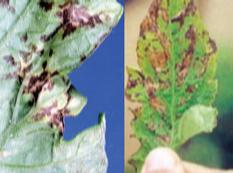Tomato leaf bacterial spot: (0, 0, 124, 173), (126, 0, 223, 173)
